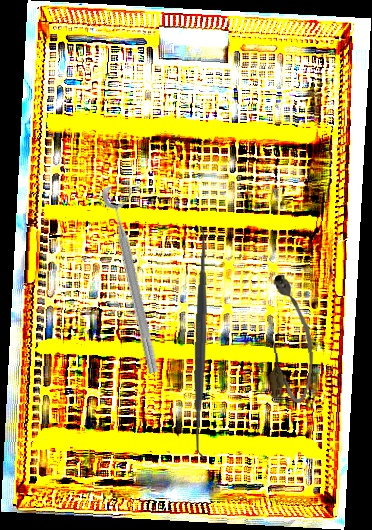Cannula: (265, 273, 316, 404)
Fixation Ring: (100, 181, 175, 376)
Spatula Surgical: (183, 226, 219, 459)
